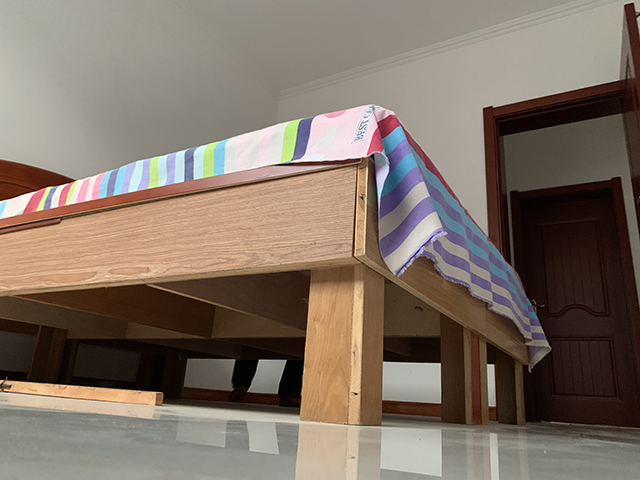bed: (1, 102, 553, 427)
